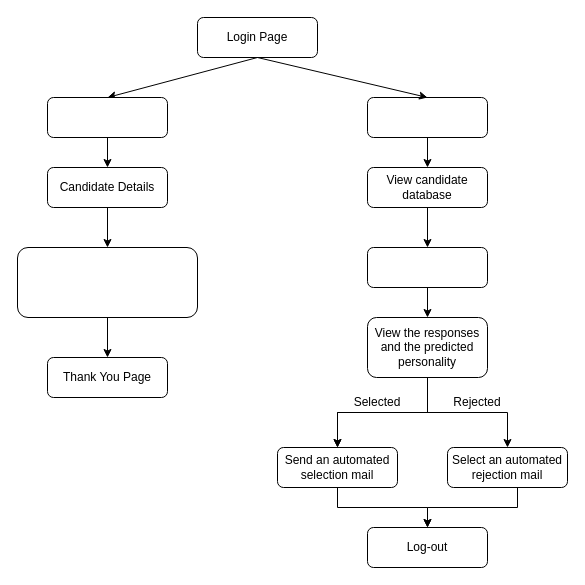
The diagram is 585 pixels wide and 585 high, and some of its shapes have lost their labels. The shapes that lost their labels are listed below. From the top down, each one's centre as x and y in pixels, then its label:
At [107,117]: "Candidate Login".
At [427,117]: "Recruiter Log-In".
At [107,282]: "Question Page (Candidates required to allow video & audio privileges)".
At [427,267]: "Select a candidate profile".
